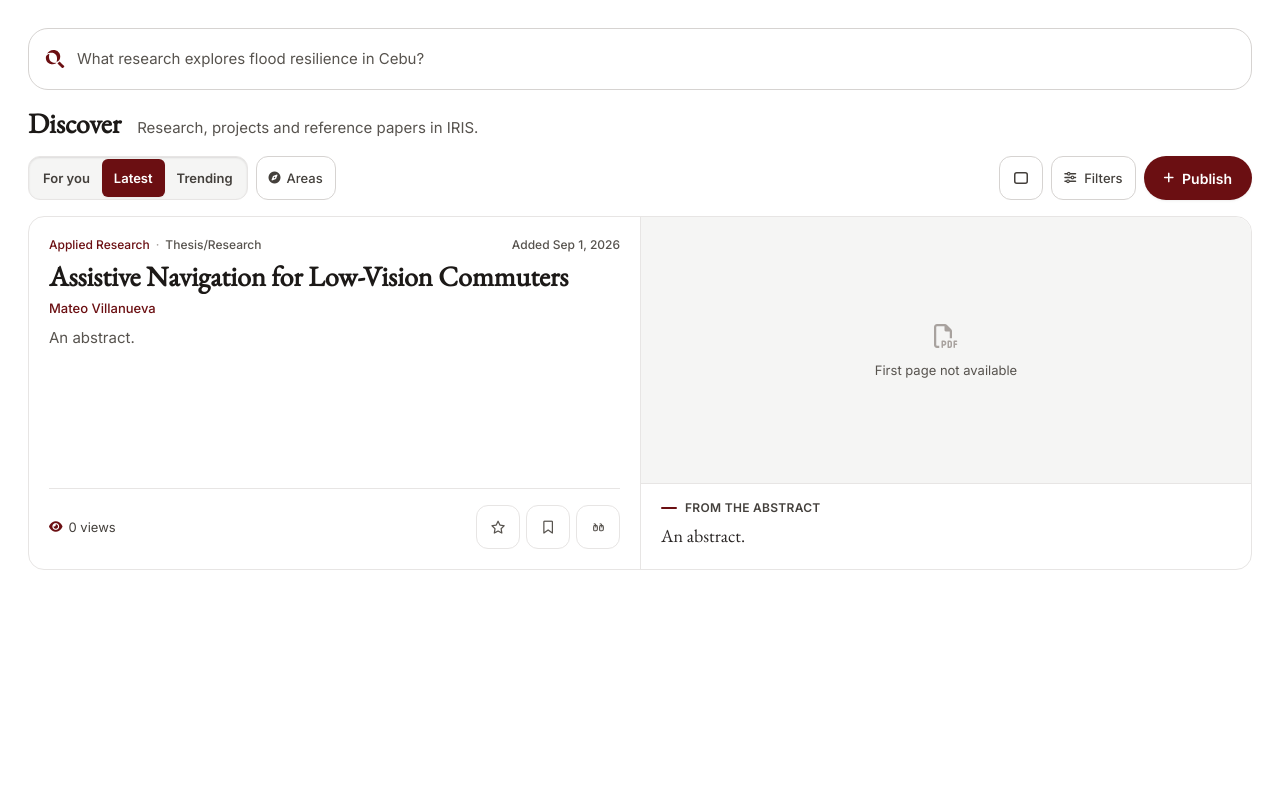
it: browsing › truthfully explains that For you is showing Latest until Areas are chosen
The width and height of the screenshot is (1280, 800).
expect the link "Assistive Navigation for Low-Vision Commuters" is shown: met, box [49, 259, 568, 294]
Step 1. Click the button "For you" → (66, 178), box [31, 159, 102, 197]
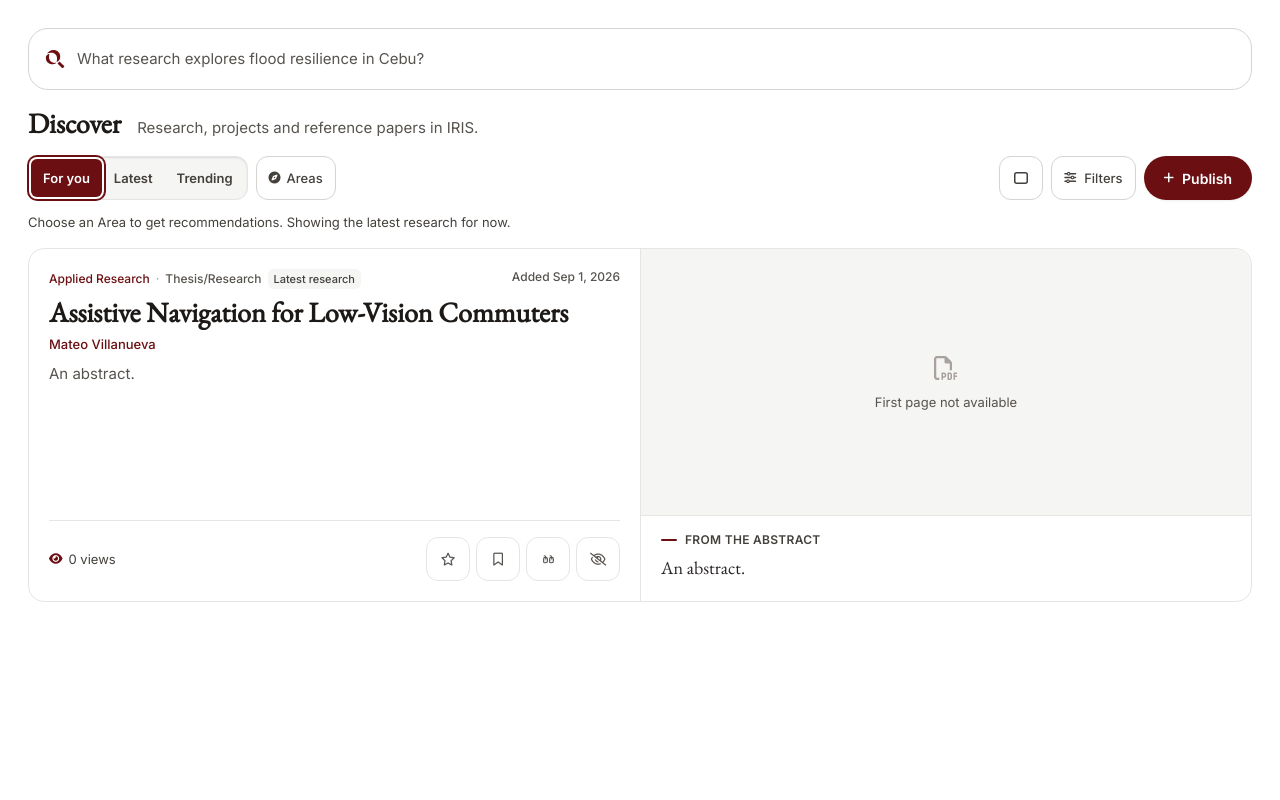
expect the text "Choose an Area to get recommendations. Showing the latest research for now." is shown: met, box [28, 214, 511, 230]
expect the text "Latest research" is shown: met, box [268, 269, 361, 289]
